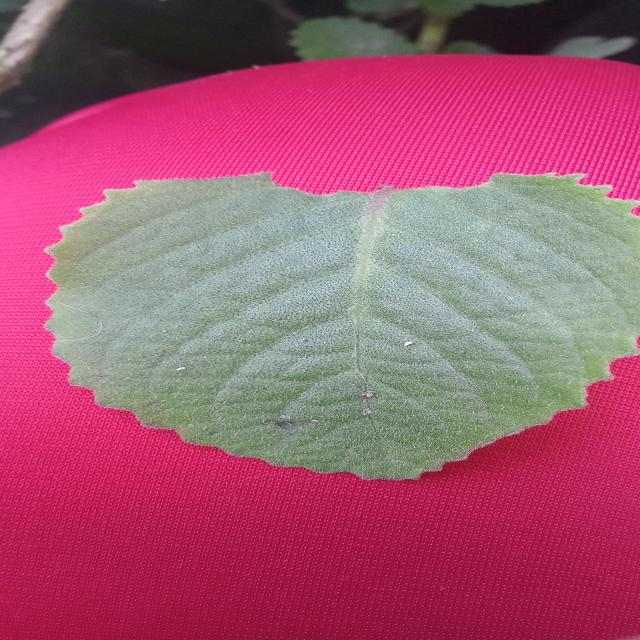Oregano: (38, 158, 640, 489)
